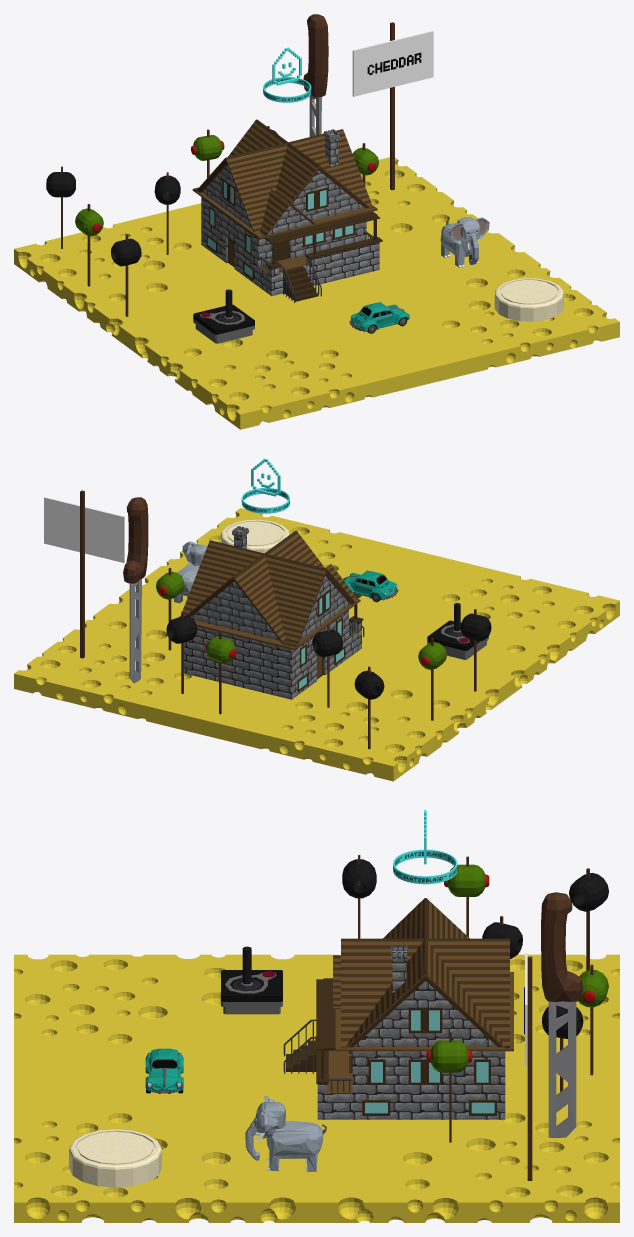
3 views of the same model, one above another, from view 1: azimuth 30°, elevation 25°; view 2: azimuth 150°, elevation 25°; view 3: azimuth 270°, elevation 25° (orthographic). The views are drawn at different scales.
Parts seen in each view (by area): view 1: Cube.022, Cube.586, Cube.023, Cylinder.016, Cube.024, OBJRANDOM_JOYSTICK, ANIMAL_ELEFANTE, VEHICLES_VOLKSWAGEN, TYPE_PREMIUM, Sphere.017, Sphere.018, Sphere.016 (+3 smaller); view 2: Cube.022, Cube.586, Cube.023, Cube.024, Cylinder.016, OBJRANDOM_JOYSTICK, VEHICLES_VOLKSWAGEN, TYPE_PREMIUM, ANIMAL_ELEFANTE, Sphere.021, Sphere.017, Sphere.020 (+4 smaller); view 3: Cube.022, Cube.586, Cube.024, Cylinder.016, ANIMAL_ELEFANTE, OBJRANDOM_JOYSTICK, VEHICLES_VOLKSWAGEN, Cube.023, Sphere.019, Sphere.016, TYPE_PREMIUM, Sphere.017 (+4 smaller).
Boxes of the visible parts, x1,y1,x2,y2 form: Cube.022: (14, 157, 619, 429); Cube.586: (192, 119, 382, 302); Cube.023: (352, 22, 433, 190); Cylinder.016: (494, 278, 563, 321); Cube.024: (303, 14, 328, 136); OBJRANDOM_JOYSTICK: (193, 289, 254, 343); ANIMAL_ELEFANTE: (440, 217, 489, 267); VEHICLES_VOLKSWAGEN: (349, 302, 409, 333); TYPE_PREMIUM: (263, 47, 311, 102); Sphere.017: (111, 234, 141, 316); Sphere.018: (75, 204, 103, 286); Sphere.016: (46, 166, 75, 248); Cube.022: (14, 508, 619, 781); Cube.586: (179, 526, 364, 699); Cube.023: (44, 490, 124, 658); Cube.024: (123, 497, 148, 683); Cylinder.016: (220, 519, 289, 553); OBJRANDOM_JOYSTICK: (427, 603, 488, 659); VEHICLES_VOLKSWAGEN: (343, 570, 398, 602); TYPE_PREMIUM: (241, 458, 289, 513); ANIMAL_ELEFANTE: (174, 541, 207, 603); Sphere.021: (166, 611, 197, 693); Sphere.017: (460, 609, 491, 691); Sphere.020: (312, 625, 342, 707); Cube.022: (14, 954, 619, 1222); Cube.586: (283, 898, 513, 1119); Cube.024: (541, 892, 583, 1137); Cylinder.016: (69, 1129, 161, 1187); ANIMAL_ELEFANTE: (245, 1096, 326, 1171); OBJRANDOM_JOYSTICK: (221, 946, 282, 1014); VEHICLES_VOLKSWAGEN: (145, 1048, 183, 1093); Cube.023: (524, 953, 532, 1180); Sphere.019: (426, 1032, 472, 1142); Sphere.016: (569, 868, 608, 970); TYPE_PREMIUM: (393, 810, 457, 884); Sphere.017: (342, 855, 376, 938).
Size of the model in its own units: 3917 by 2224 by 4000.
Materials: 39 (5 with a texture image).
